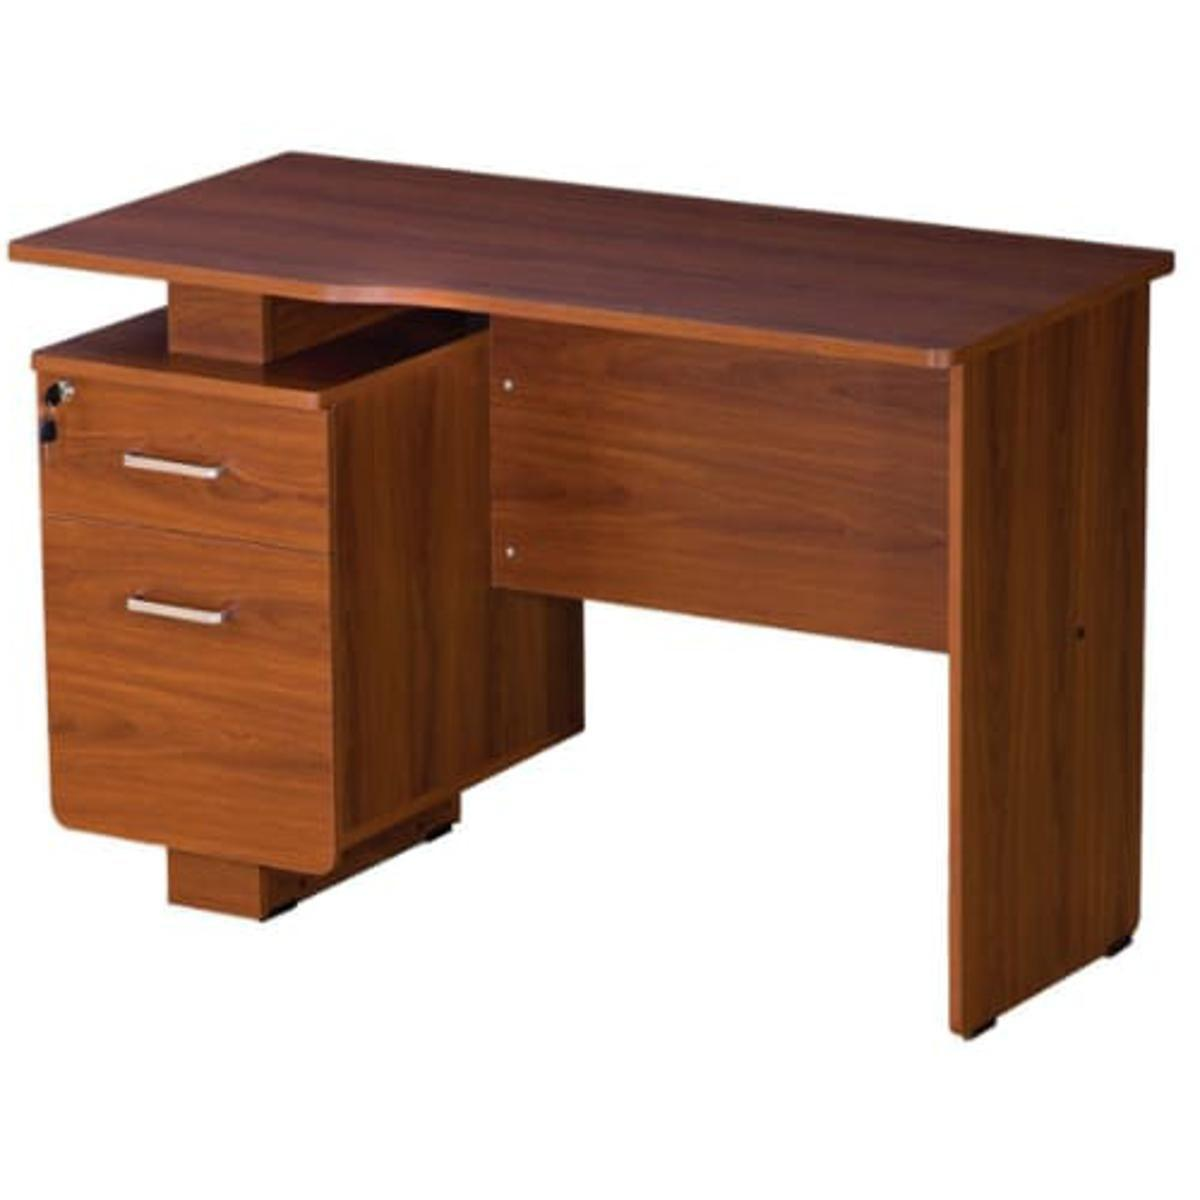Table: (9, 90, 1194, 1079)
